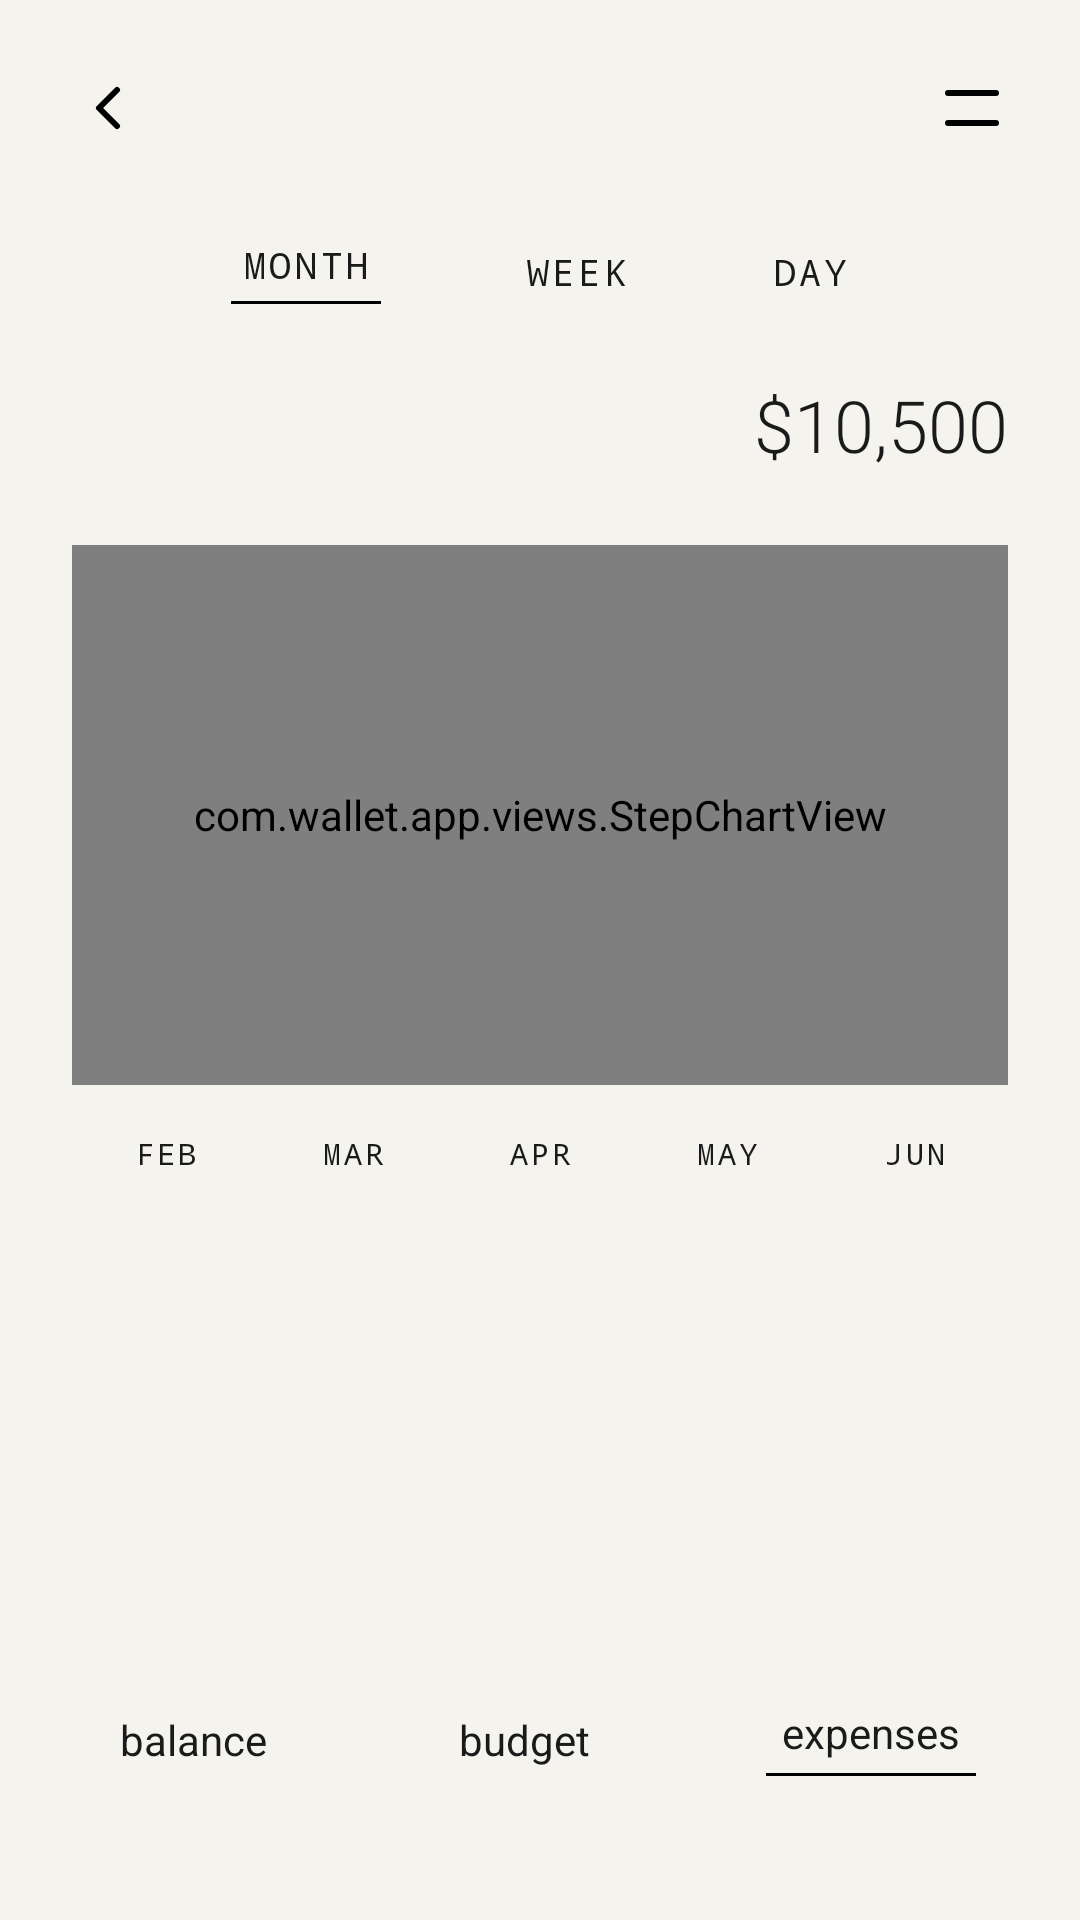

Screen size 1080 x 1920. Icon name, then its center in pixels as (x,y):
Back: (108,108)
Menu: (972,108)
